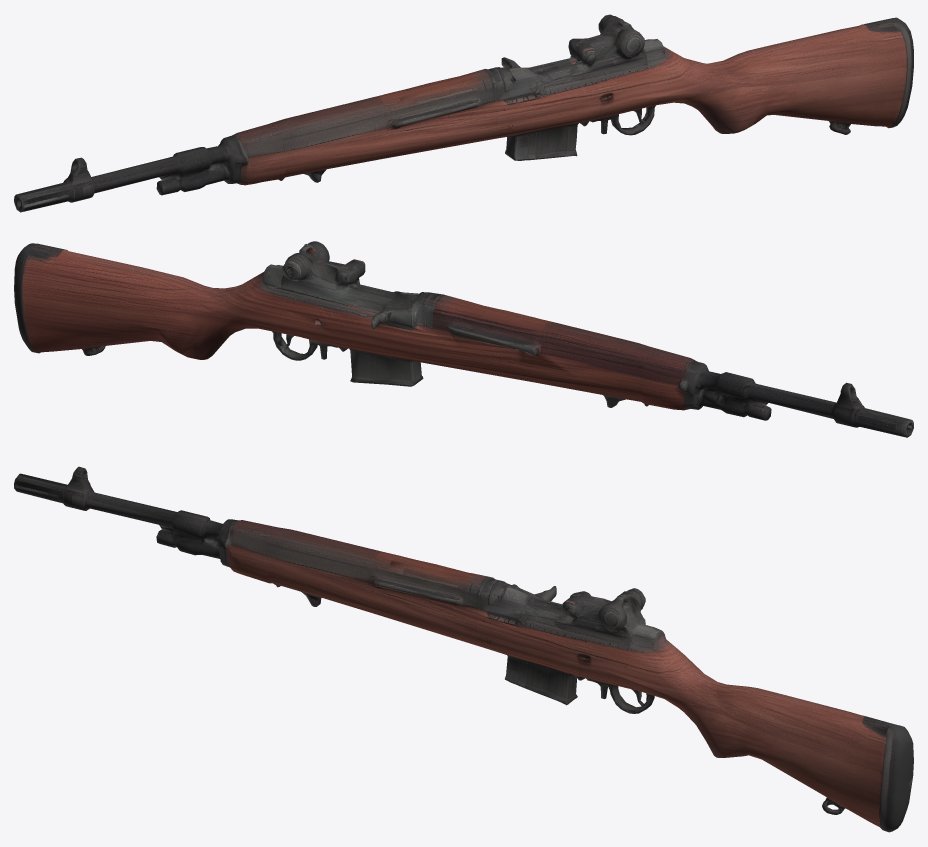
The picture shows the model from 3 angles, top to bottom: view 1: azimuth 30°, elevation 25°; view 2: azimuth 150°, elevation 25°; view 3: azimuth 330°, elevation 25°; orthographic projection.
Parts seen in each view (by area): view 1: Mesh_0; view 2: Mesh_0; view 3: Mesh_0.
Boxes of the visible parts, <box> form: Mesh_0: <box>14,14,913,212</box>; Mesh_0: <box>14,241,913,437</box>; Mesh_0: <box>14,466,913,832</box>.
Size of the model in its own units: 191 by 35.16 by 14.38.
1 material, 1 textured.
